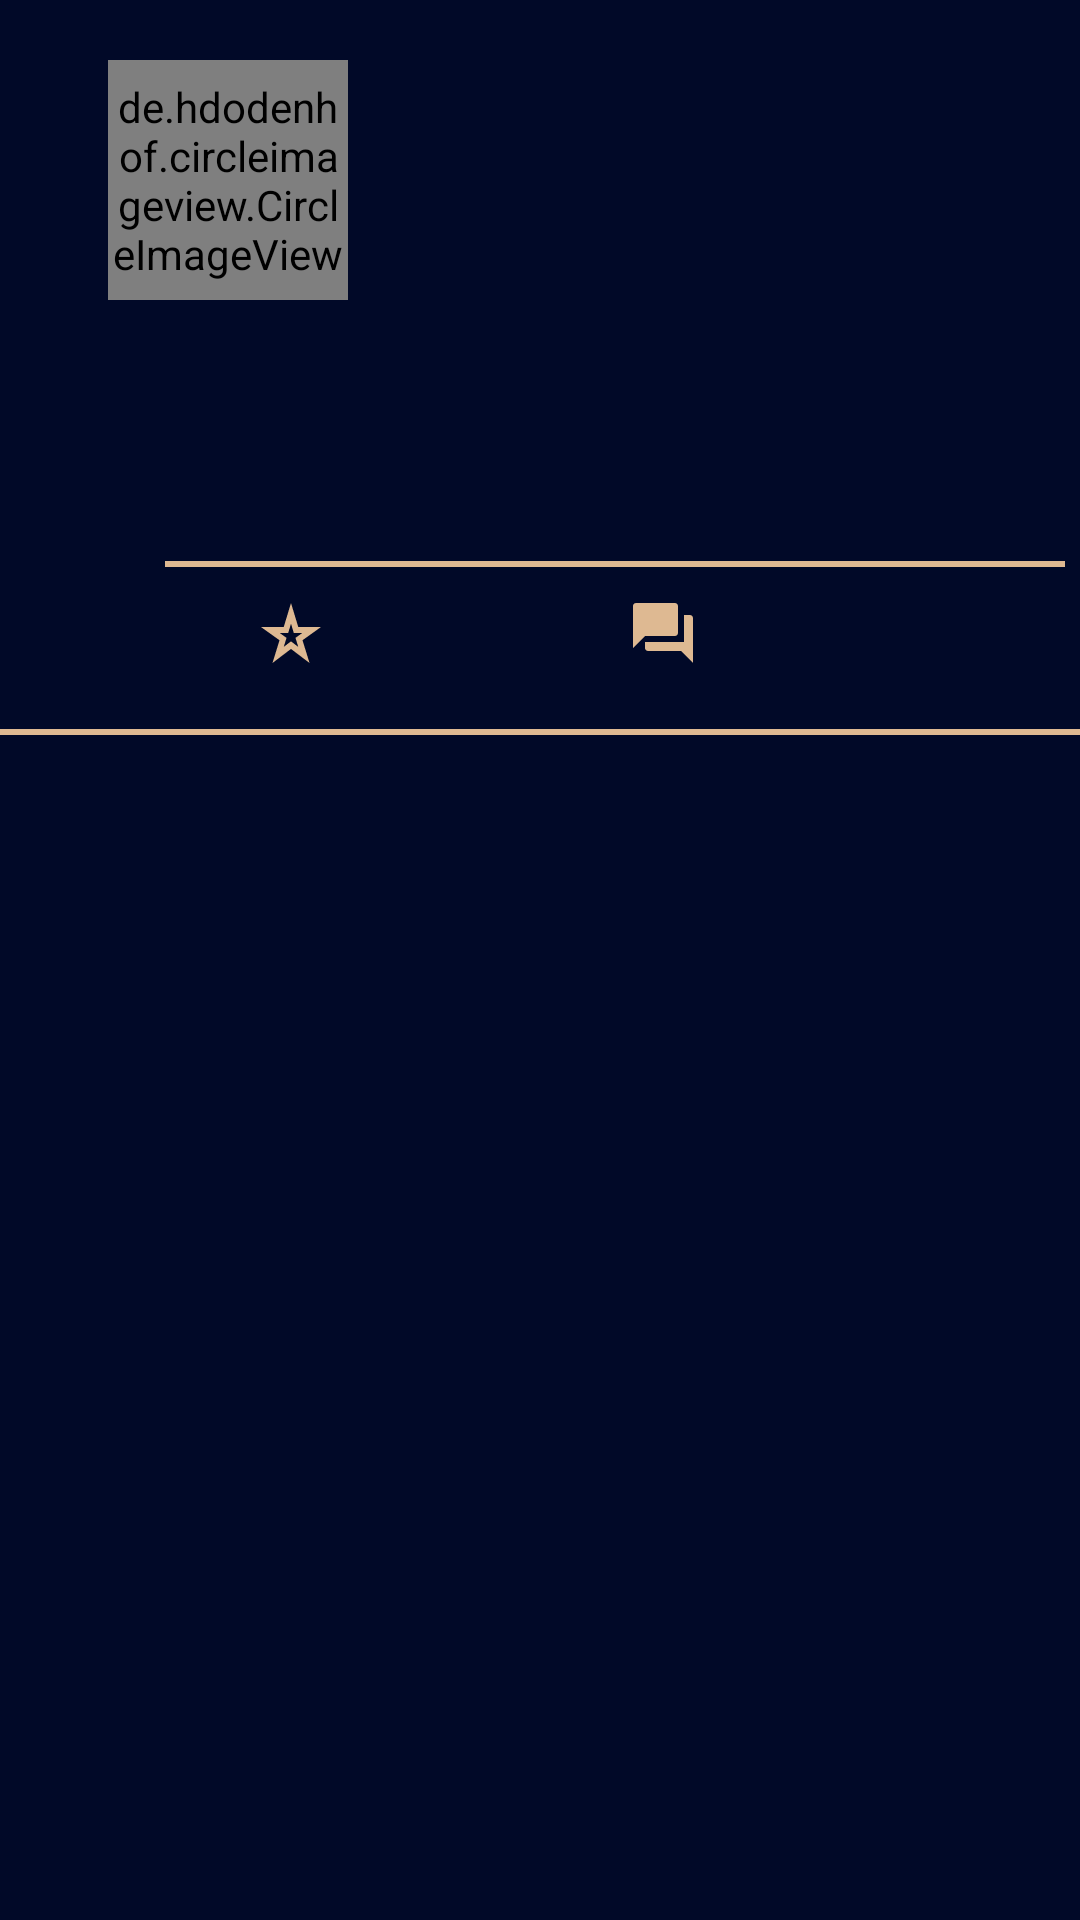

Screen size 1080px×1920px. Icon name, then its center in pixels as (x,y):
question answer: (663,633)
star border: (291,633)
